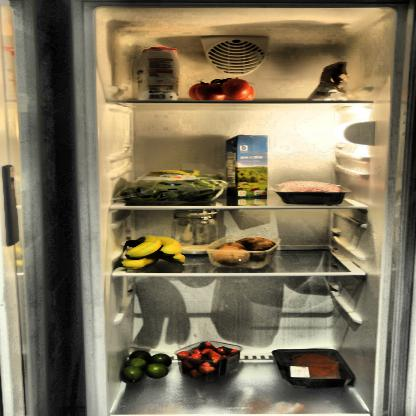banana: (122, 233, 190, 271)
beef: (272, 349, 356, 386)
ground_beef: (272, 182, 348, 208)
lime: (119, 349, 171, 384)
milk: (220, 131, 275, 204)
potato: (206, 233, 276, 270)
spinach: (116, 168, 225, 208)
strawberries: (176, 340, 244, 382)
tomato: (188, 77, 258, 102)
